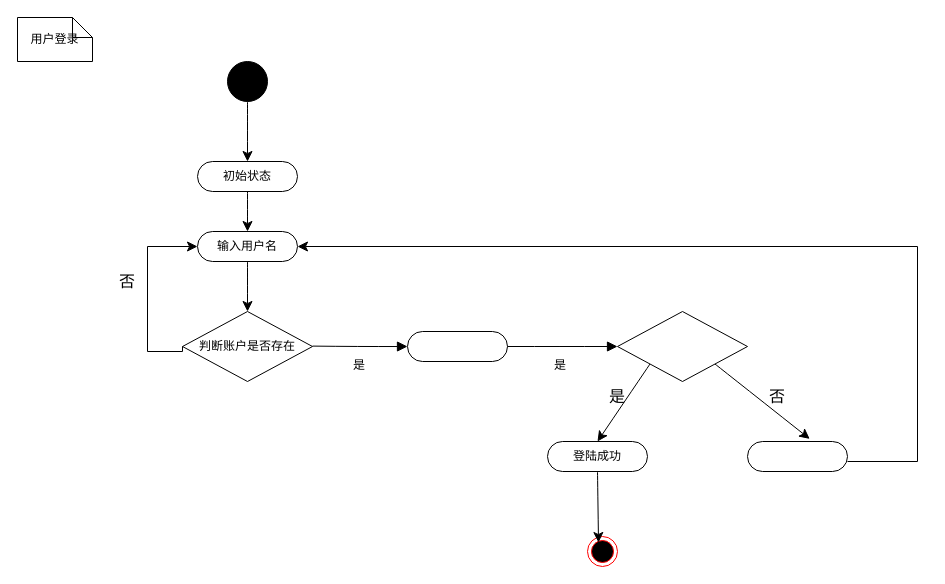
Image size: 945x584. Some labels were removed from this diagram. Each missing label, with the centre of its shape:
"判断密码是否存在" belongs at (x=682, y=346).
"登录失败" belongs at (x=797, y=456).
"输入密码" belongs at (x=457, y=346).
